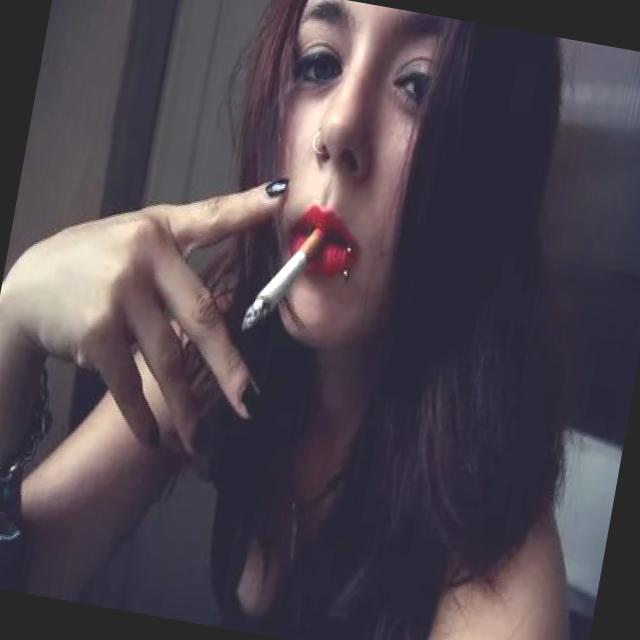smoke: (238, 214, 332, 345)
